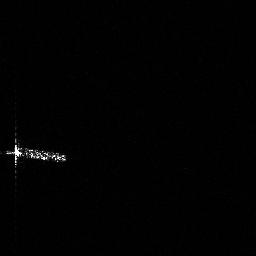ship: (1, 137, 68, 169)
